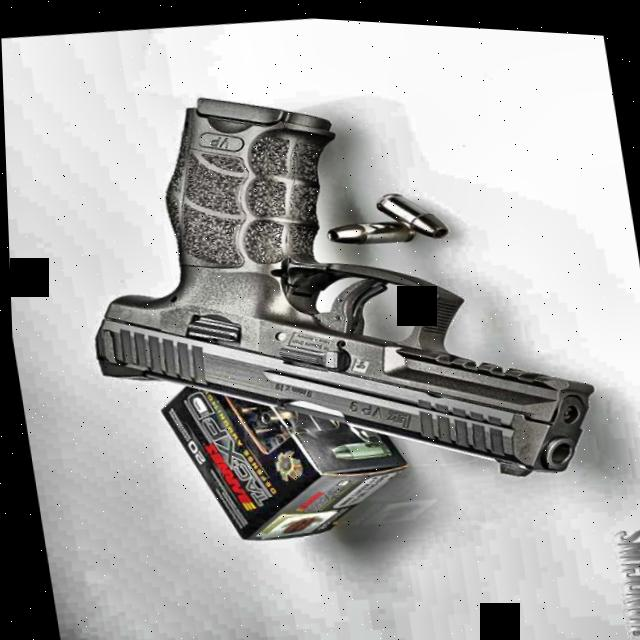HKVP9: (51, 45, 605, 525)
